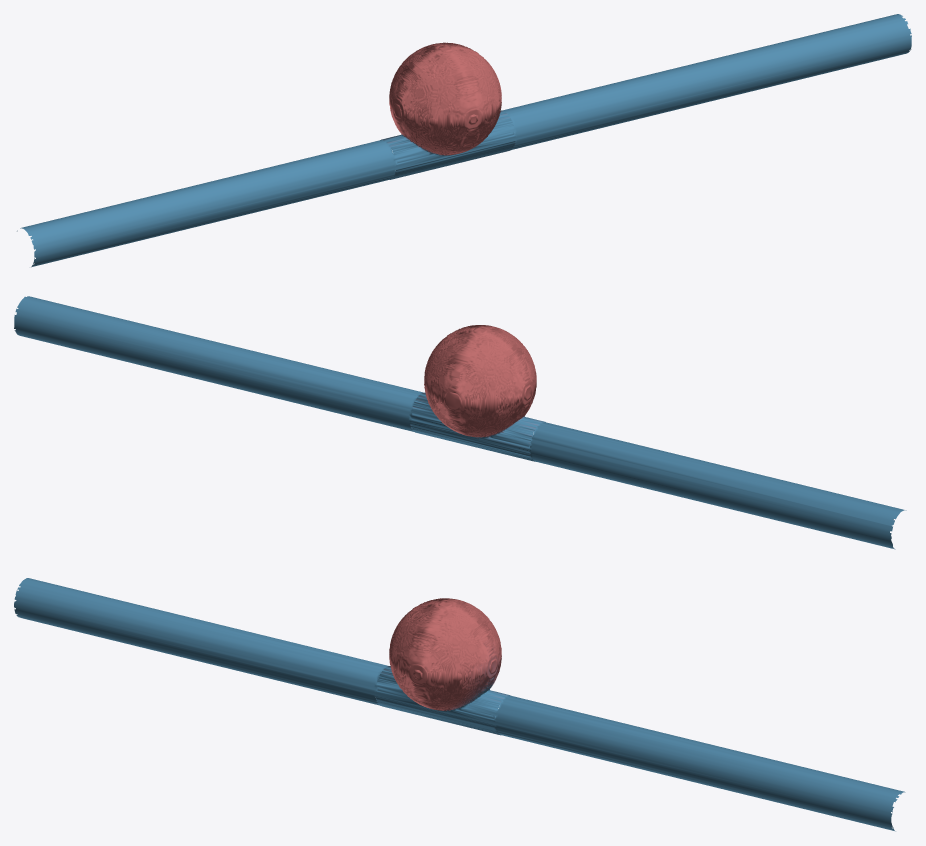
3 views of the same model, one above another, from view 1: azimuth 30°, elevation 25°; view 2: azimuth 150°, elevation 25°; view 3: azimuth 330°, elevation 25° (orthographic).
Parts seen in each view (by area): view 1: geometry_0; view 2: geometry_0; view 3: geometry_0.
Part boxes in pixels (x1=…): geometry_0: x1=17, y1=14, x2=911, y2=267; geometry_0: x1=14, y1=296, x2=906, y2=549; geometry_0: x1=14, y1=578, x2=905, y2=831.
Size of the model in its own units: 1.92 by 0.2408 by 0.2122.
